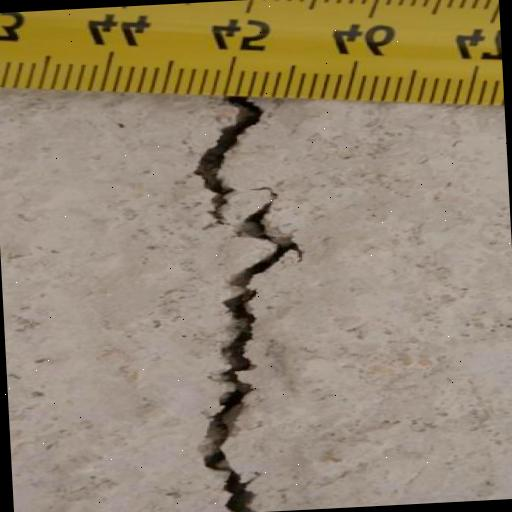spalling: (181, 107, 310, 511)
